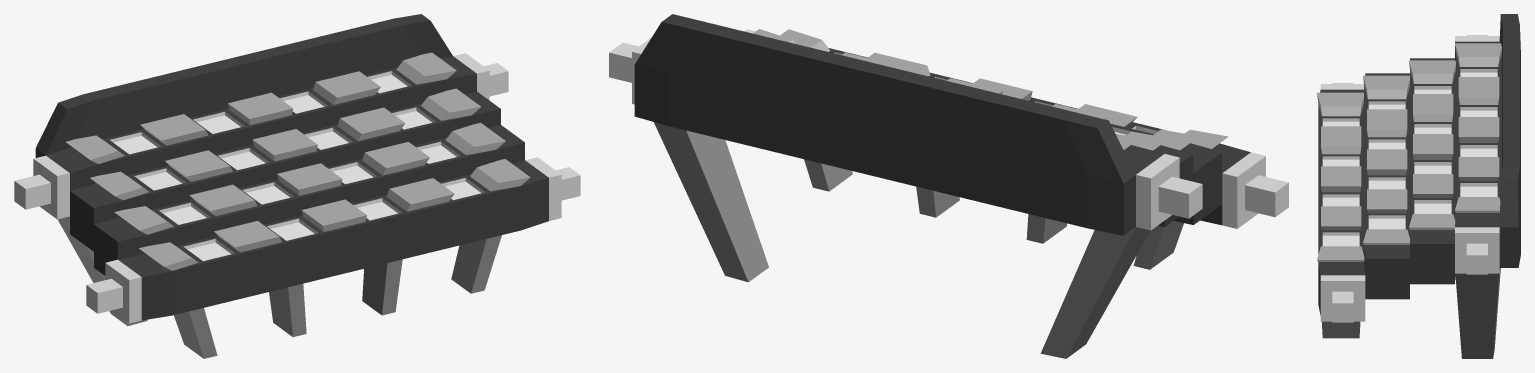
File: smallseats.fbx
3 views of the same model, side by side, from view 1: azimuth 30°, elevation 25°; view 2: azimuth 150°, elevation 25°; view 3: azimuth 270°, elevation 25° (orthographic). The views are drawn at different scales.
Visible parts, largest first — view 1: Cube; view 2: Cube; view 3: Cube.
Part boxes in pixels (x1=…): Cube: x1=14, y1=14, x2=580, y2=358; Cube: x1=609, y1=14, x2=1288, y2=358; Cube: x1=1317, y1=14, x2=1520, y2=358.
Size of the model in its own units: 22.71 by 8.89 by 9.55.
